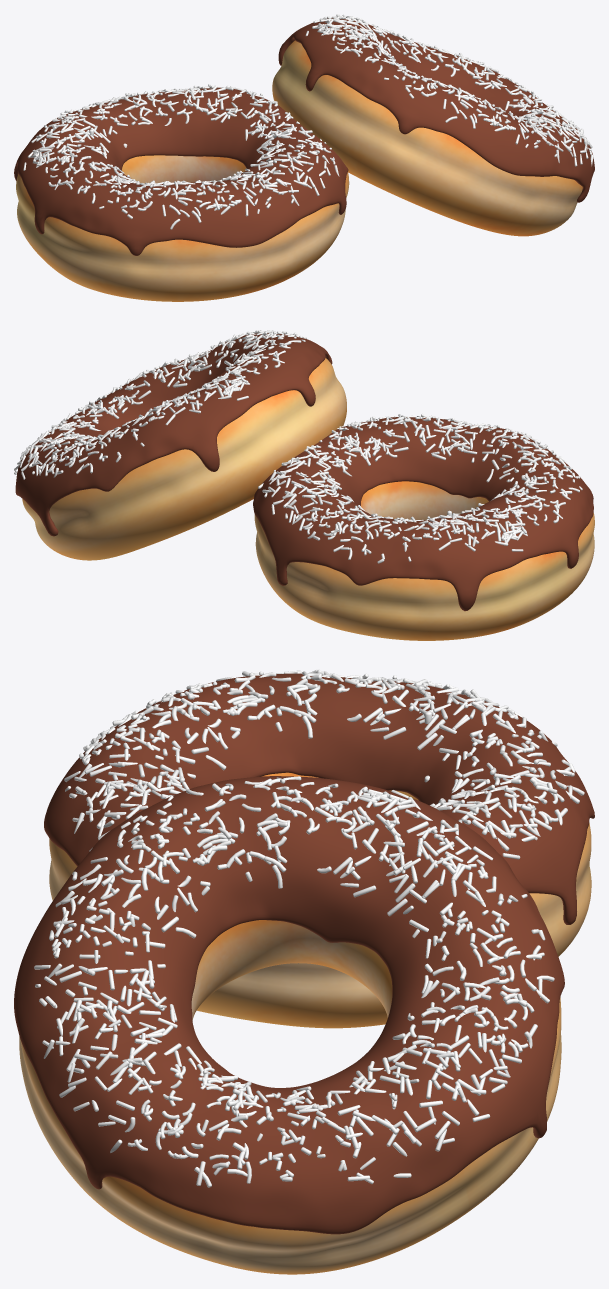
File: Donut.glb
3 views of the same model, one above another, from view 1: azimuth 30°, elevation 25°; view 2: azimuth 150°, elevation 25°; view 3: azimuth 270°, elevation 25° (orthographic). The views are drawn at different scales.
Visible parts, largest first — view 1: Es, Donat.002, Donat, Es.002; view 2: Es, Donat.002, Donat, Es.002; view 3: Es.002, Es, Donat.002, Donat.
Boxes of the visible parts, x1,y1,x2,y2 form: Es: (14,87,348,255); Donat.002: (272,40,582,236); Donat: (16,155,349,301); Es.002: (278,18,594,202); Es: (253,417,593,611); Donat.002: (22,358,346,560); Donat: (254,481,594,640); Es.002: (15,333,332,536); Es.002: (14,776,564,1234); Es: (44,673,594,924); Donat.002: (19,920,561,1274); Donat: (49,772,591,1028).
Size of the model in its own units: 0.2693 by 0.1011 by 0.1537.
Materials: 3 (1 with a texture image).
